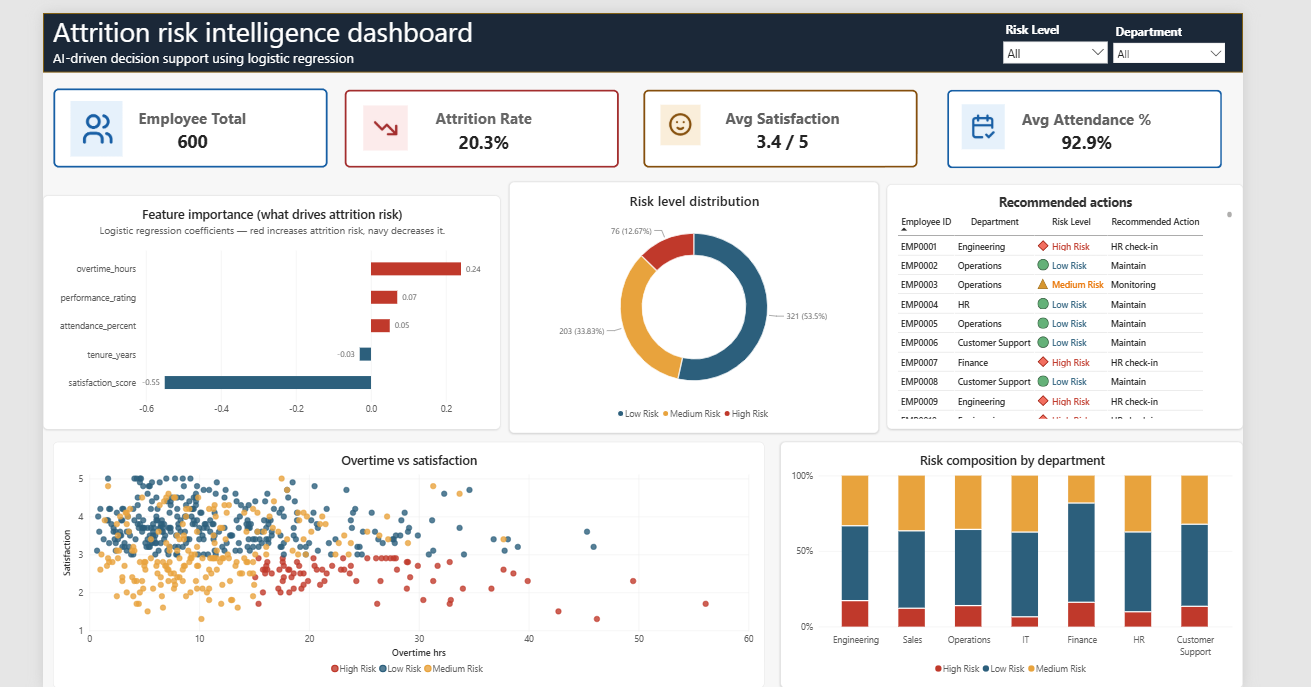

The dashboard page shown, as its layout file describes it:
{"tool":"powerbi","page":{"name":"Page 1","canvas":[1280,720],"ordinal":0},"visuals":[{"type":"cardVisual","fields":{"Data":["CountNonNull(employee_risk_dashboard_data.employee_id)"]},"box":[265.7,34.3,192.9,132.9],"z":0},{"type":"cardVisual","fields":{"Data":["employee_risk_dashboard_data.Attrition Rate"]},"box":[498.6,38.6,188.6,131.4],"z":1000},{"type":"cardVisual","fields":{"Data":["employee_risk_dashboard_data.Avg Satisfaction"]},"box":[730,38.6,211.4,121.4],"z":2000},{"type":"cardVisual","fields":{"Data":["employee_risk_dashboard_data.Avg Attendance %"]},"box":[970,48.6,227.1,118.6],"z":3000},{"type":"donutChart","fields":{"Y":["CountNonNull(employee_risk_dashboard_data.employee_id)"],"Category":["employee_risk_dashboard_data.risk_level"]},"box":[164.3,185.7,522.9,175.7],"z":4000},{"type":"hundredPercentStackedColumnChart","fields":{"Series":["employee_risk_dashboard_data.risk_level"],"Category":["employee_risk_dashboard_data.department"],"Y":["CountNonNull(employee_risk_dashboard_data.employee_id)"]},"box":[658,360,622,360],"z":5000},{"type":"scatterChart","fields":{"X":["employee_risk_dashboard_data.overtime_hours"],"Y":["employee_risk_dashboard_data.satisfaction_score"],"Series":["employee_risk_dashboard_data.risk_level"]},"box":[0,407.1,624.3,300],"z":6000},{"type":"tableEx","fields":{"Values":["employee_risk_dashboard_data.employee_id","employee_risk_dashboard_data.department","employee_risk_dashboard_data.risk_level","employee_risk_dashboard_data.recommended_action"]},"box":[697.1,171.4,582.9,190],"z":7000},{"type":"slicer","fields":{"Values":["employee_risk_dashboard_data.department"]},"box":[0,80,141.4,57.1],"z":8000},{"type":"slicer","fields":{"Values":["employee_risk_dashboard_data.risk_level"]},"box":[0,140,134.3,62.9],"z":9000}]}

Visuals, with their boxes on the page's 1280x720 design canvas (x1, y1, x2, y2). These are canvas units, not pixel positions in the 1311x687 screenshot, which may show the page scaled, cropped or inside an application window:
cardVisual - CountNonNull(employee_risk_dashboard_data.employee_id): <box>266,34,459,167</box>
cardVisual - employee_risk_dashboard_data.Attrition Rate: <box>499,39,687,170</box>
cardVisual - employee_risk_dashboard_data.Avg Satisfaction: <box>730,39,941,160</box>
cardVisual - employee_risk_dashboard_data.Avg Attendance %: <box>970,49,1197,167</box>
donutChart - CountNonNull(employee_risk_dashboard_data.employee_id) x employee_risk_dashboard_data.risk_level: <box>164,186,687,361</box>
hundredPercentStackedColumnChart - employee_risk_dashboard_data.risk_level x employee_risk_dashboard_data.department: <box>658,360,1280,720</box>
scatterChart - employee_risk_dashboard_data.overtime_hours x employee_risk_dashboard_data.satisfaction_score: <box>0,407,624,707</box>
tableEx - employee_risk_dashboard_data.employee_id x employee_risk_dashboard_data.department: <box>697,171,1280,361</box>
slicer - employee_risk_dashboard_data.department: <box>0,80,141,137</box>
slicer - employee_risk_dashboard_data.risk_level: <box>0,140,134,203</box>
